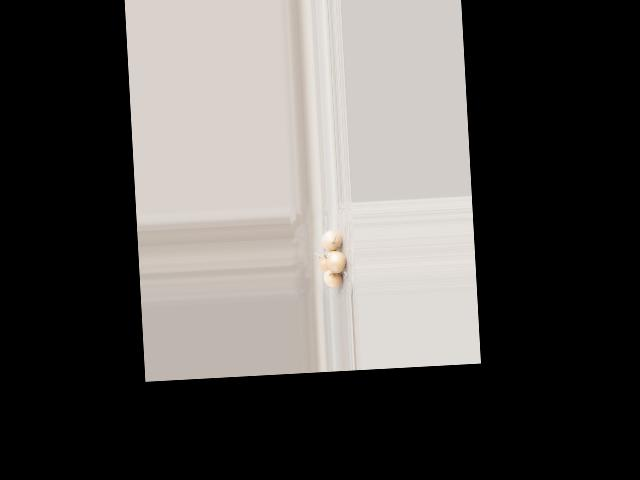onion: (319, 254, 334, 273)
